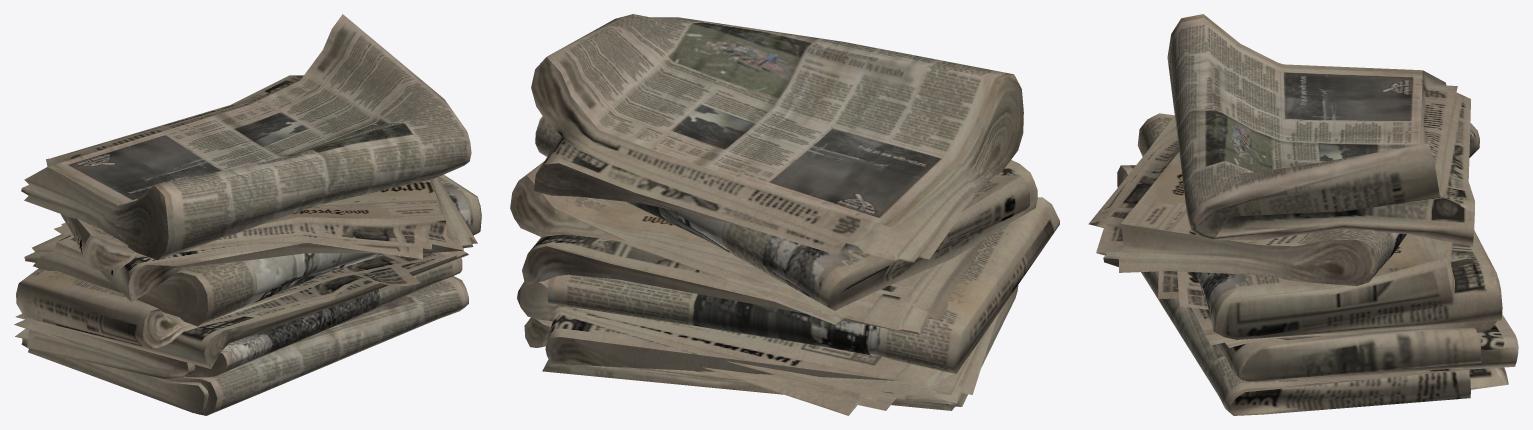
File: newsPaperStack.glb
3 views of the same model, side by side, from view 1: azimuth 30°, elevation 25°; view 2: azimuth 150°, elevation 25°; view 3: azimuth 270°, elevation 25° (orthographic). The views are drawn at different scales.
Visible parts, largest first — view 1: sm36_010_newspaper01a_00ms.001_64; view 2: sm36_010_newspaper01a_00ms.001_64; view 3: sm36_010_newspaper01a_00ms.001_64.
Part boxes in pixels (x1,y1,x2,y2): sm36_010_newspaper01a_00ms.001_64: (14, 14, 481, 415); sm36_010_newspaper01a_00ms.001_64: (510, 14, 1059, 415); sm36_010_newspaper01a_00ms.001_64: (1088, 14, 1518, 415).
Bounding box in the file's own units: 0.4802 × 0.2867 × 0.4279.
1 material, 1 textured.
